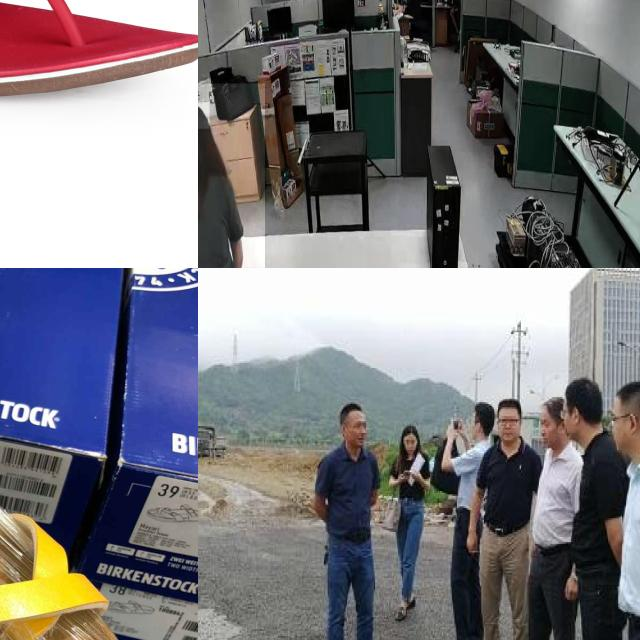No_Ear-Protection: (624, 410, 640, 437), (569, 404, 583, 428), (338, 418, 352, 440)
Sandals: (0, 276, 149, 640), (0, 0, 198, 100)
head_nohelmet: (198, 102, 210, 129)
person: (198, 83, 265, 268)
